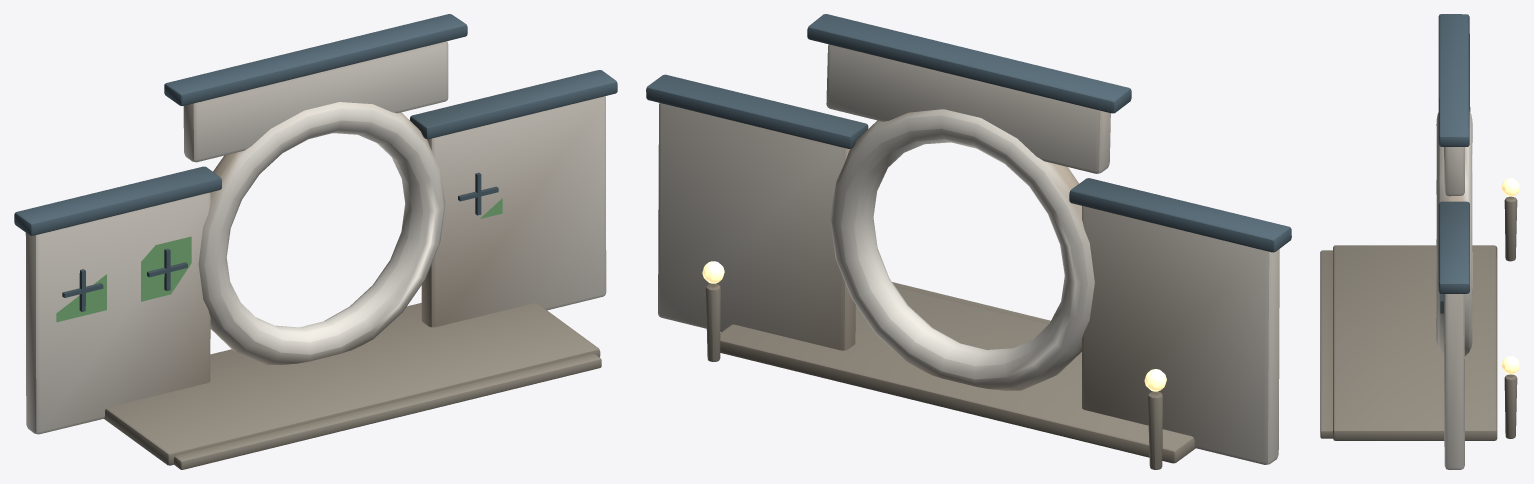
3 renders of one model, left to right at view 1: azimuth 30°, elevation 25°; view 2: azimuth 150°, elevation 25°; view 3: azimuth 270°, elevation 25°, orthographic. The views are drawn at different scales.
Visible parts, largest first — view 1: gate_debb91f7; view 2: gate_debb91f7; view 3: gate_debb91f7.
Boxes of the visible parts, x1,y1,x2,y2 form: gate_debb91f7: (14, 14, 617, 469); gate_debb91f7: (646, 14, 1291, 469); gate_debb91f7: (1320, 14, 1519, 469).
Bounding box in the file's own units: 7.64 × 3.86 × 2.55.
